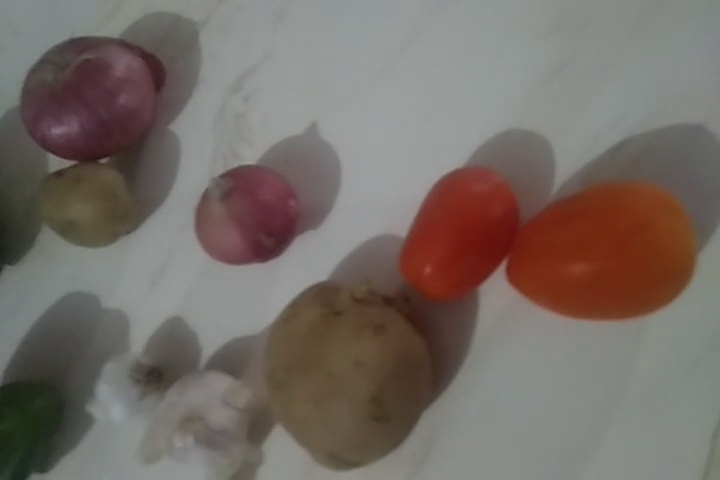garlic: (150, 381, 261, 479), (1, 384, 65, 473), (97, 356, 171, 424)
potato: (261, 279, 425, 469), (30, 160, 132, 249)
tomato: (521, 183, 695, 320), (18, 25, 158, 159), (399, 168, 512, 302), (188, 161, 306, 257)
